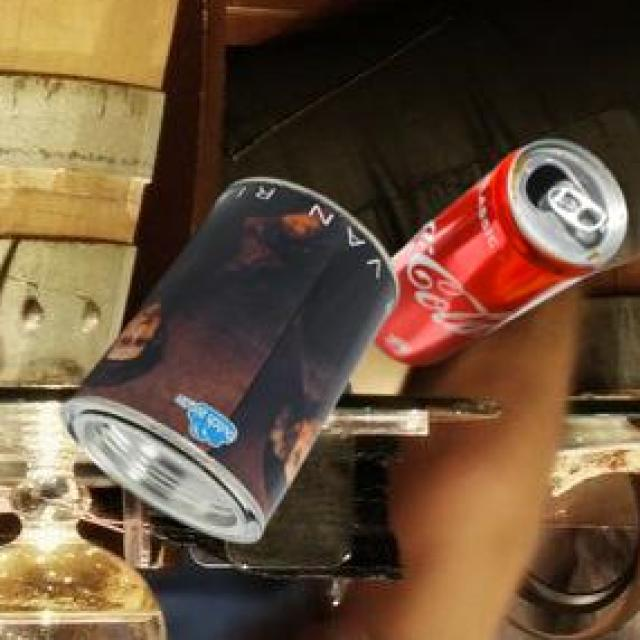logam: (64, 182, 402, 545), (375, 144, 630, 368)
